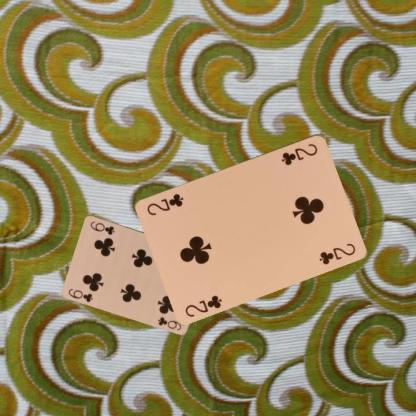2c: (182, 292, 224, 318), (278, 140, 319, 166)
6c: (66, 286, 94, 303)
